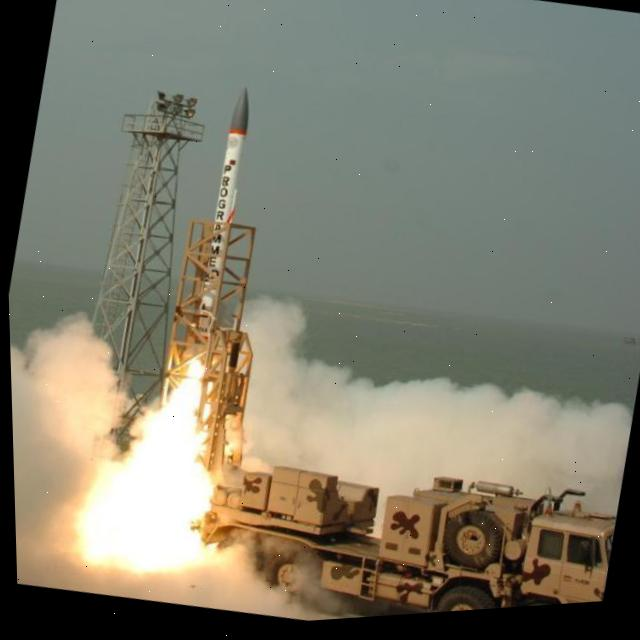missile: (154, 81, 267, 402)
